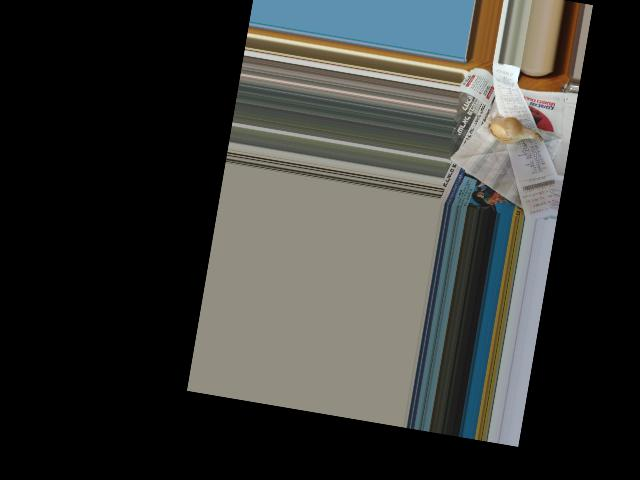onion: (489, 116, 541, 148)
